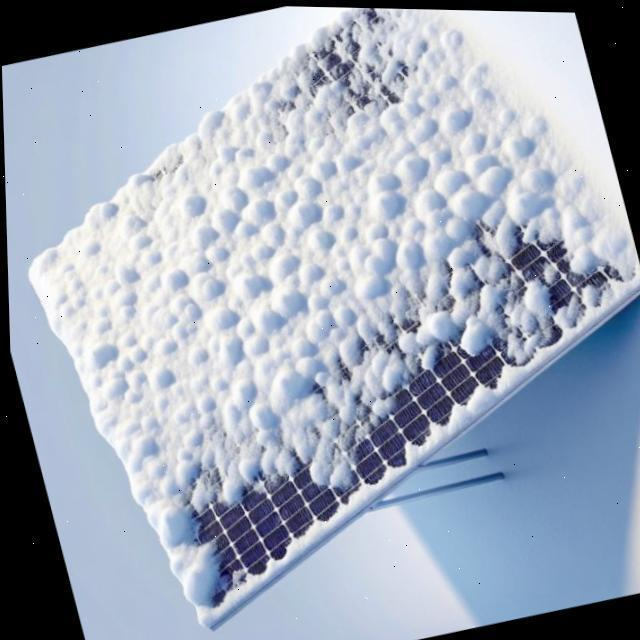Anomaly Solar Panel: (23, 6, 640, 630)
Snow: (28, 6, 640, 624)
